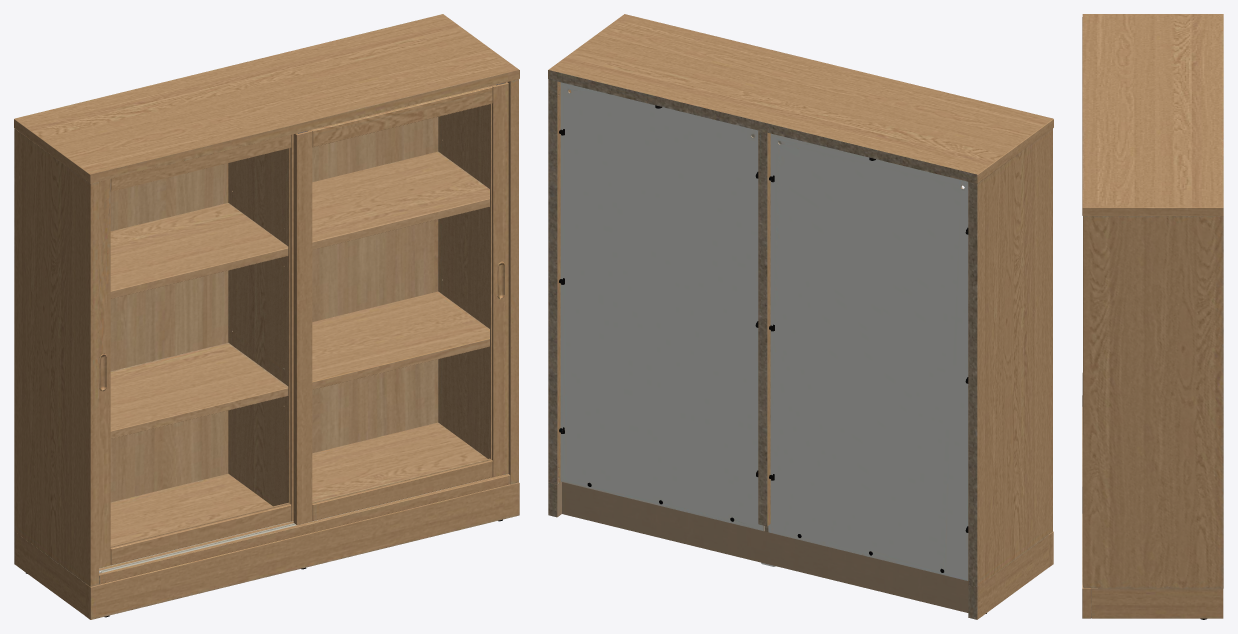
The picture shows the model from 3 angles, left to right: view 1: azimuth 30°, elevation 25°; view 2: azimuth 150°, elevation 25°; view 3: azimuth 270°, elevation 25°; orthographic projection. The views are drawn at different scales.
Visible parts, largest first — view 1: ASY_ART_20489278_S01_NV01; view 2: ASY_ART_20489278_S01_NV01; view 3: ASY_ART_20489278_S01_NV01.
Boxes of the visible parts, box(x1,y1,x2,y2) form: ASY_ART_20489278_S01_NV01: box(14, 14, 519, 619); ASY_ART_20489278_S01_NV01: box(548, 14, 1053, 619); ASY_ART_20489278_S01_NV01: box(1082, 14, 1223, 619).
Bounding box in the file's own units: 1.21 × 1.2 × 0.372.
2 materials, 2 textured.
